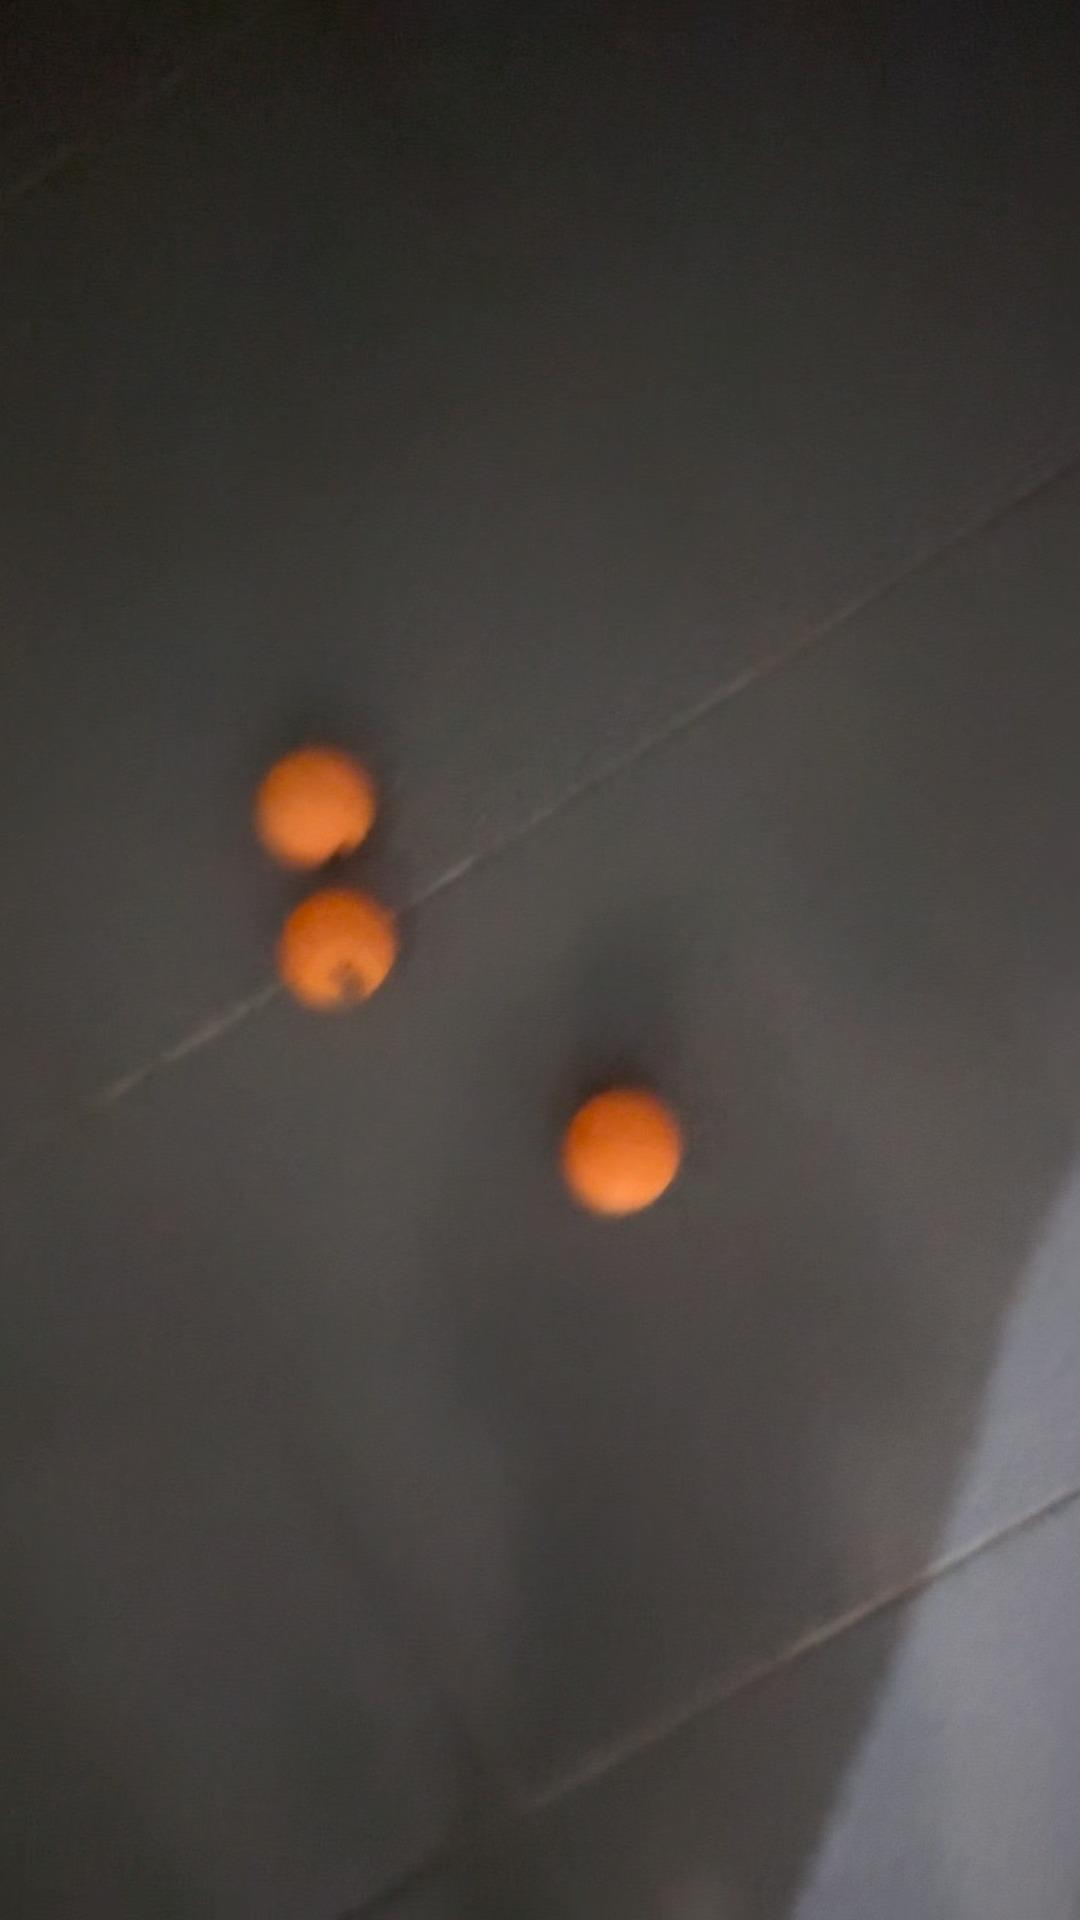oball: (287, 885, 406, 1023), (556, 1091, 686, 1217), (255, 752, 386, 869)
